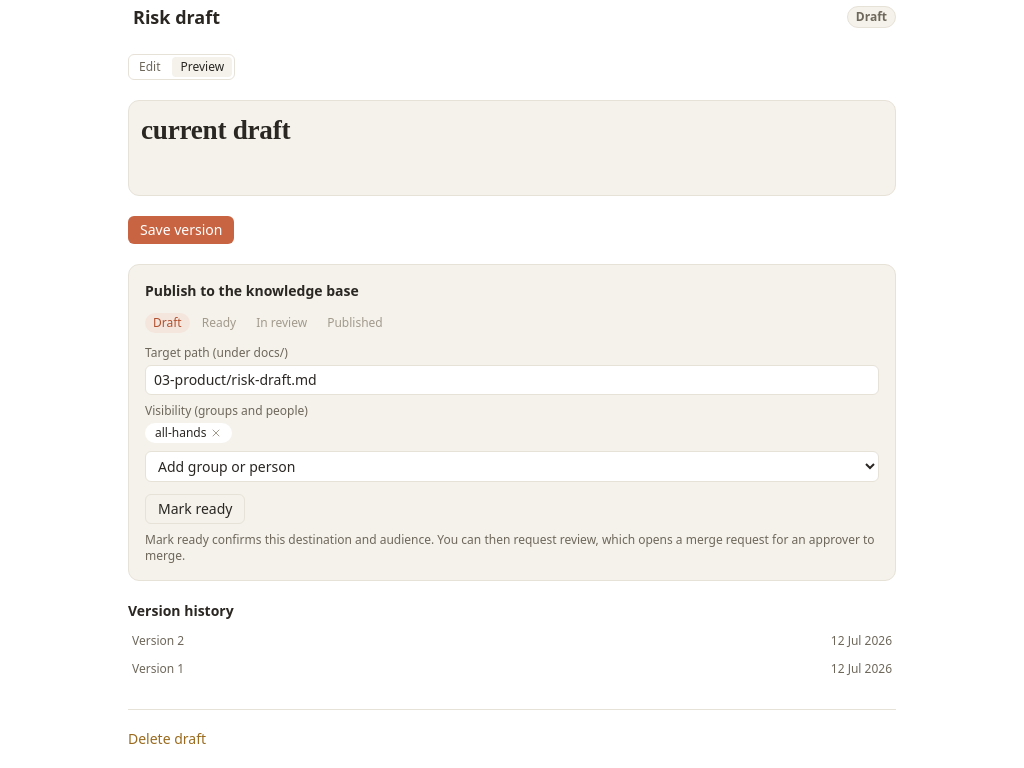
Test: ArtifactEditor › opens a past version in a read-only viewer without mutating
The width and height of the screenshot is (1024, 768).
Step 1. Click the button "Version 1 12 Jul 2026" → (155, 668), box [128,657,896,681]
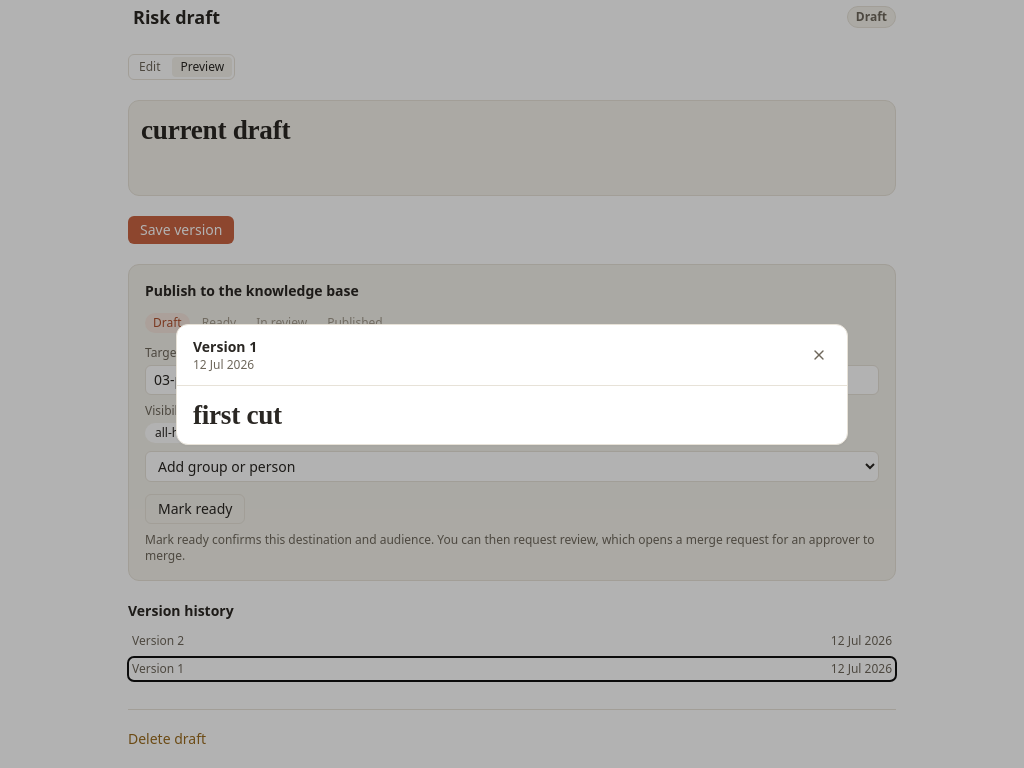
Expected: the dialog "Version 1" shows "first cut", [193,400,282,430]
Step 2. Click the button named "close version viewer" → (819, 354), box [807,342,831,366]
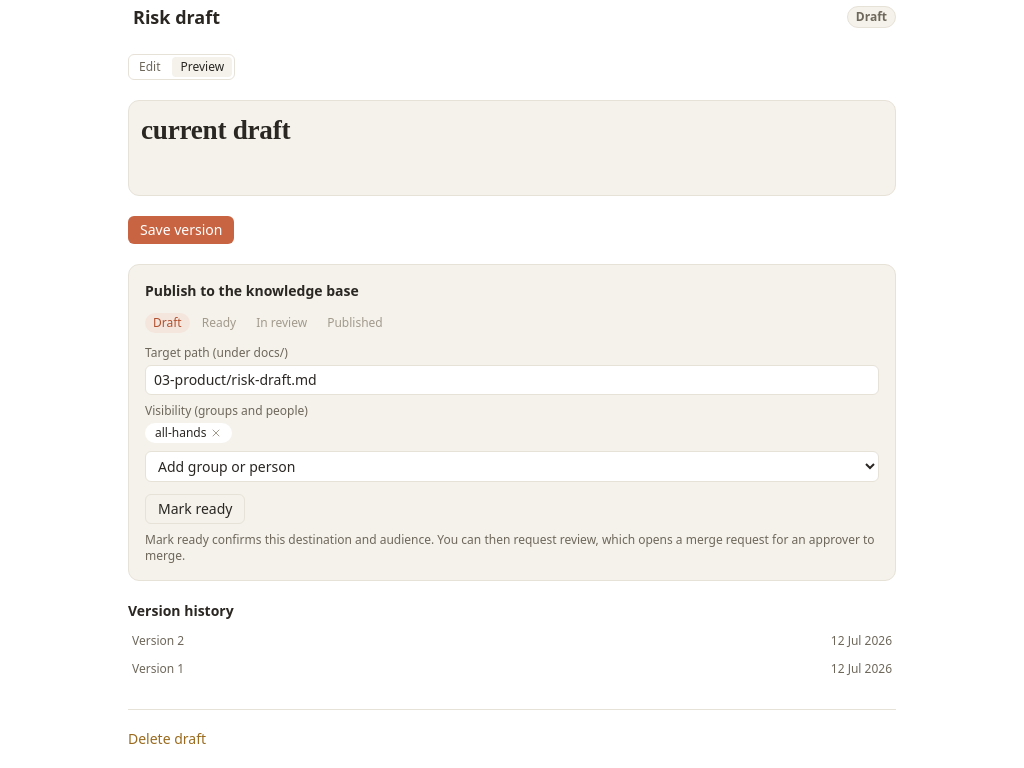
Expected: the dialog is gone
